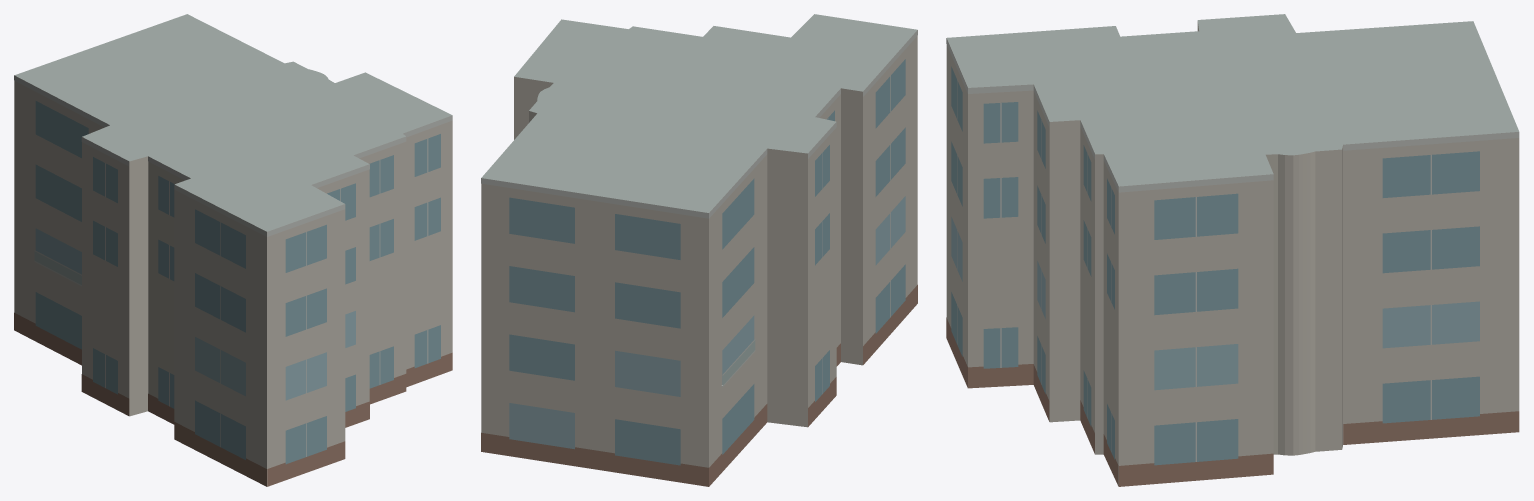
Rendered from survey-upis-32608069.glb.
3 views of the same model, side by side, from view 1: azimuth 30°, elevation 25°; view 2: azimuth 150°, elevation 25°; view 3: azimuth 270°, elevation 25° (orthographic). The views are drawn at different scales.
Visible parts, largest first — view 1: survey-upis-32608069.tmp; view 2: survey-upis-32608069.tmp; view 3: survey-upis-32608069.tmp.
Part boxes in pixels (x1=…): survey-upis-32608069.tmp: x1=14, y1=14, x2=452, y2=486; survey-upis-32608069.tmp: x1=481, y1=14, x2=917, y2=486; survey-upis-32608069.tmp: x1=946, y1=14, x2=1519, y2=486.
Bounding box in the file's own units: 14.79 × 12 × 20.76.
